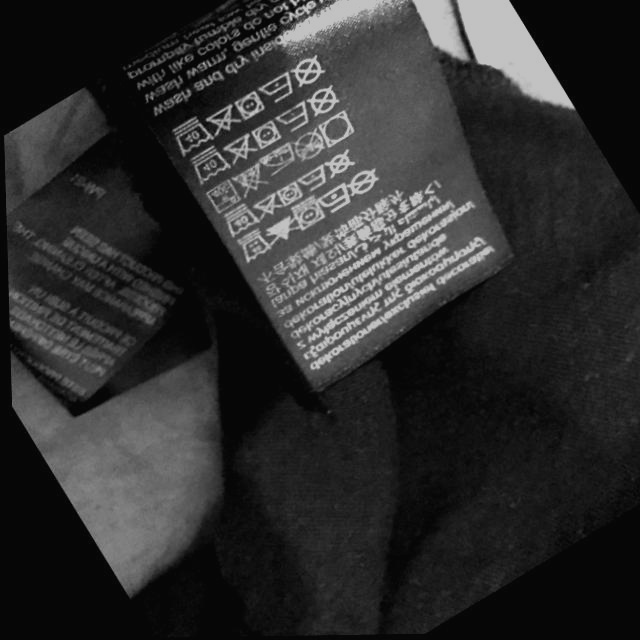40C: (174, 111, 212, 156), (195, 143, 231, 185), (235, 228, 272, 267), (222, 205, 260, 234), (208, 179, 240, 212)
DN_bleach: (226, 131, 256, 167), (234, 162, 265, 196), (268, 214, 299, 247), (207, 103, 238, 134), (255, 193, 282, 220)
DN_dry_clean: (292, 54, 327, 89), (307, 86, 343, 117), (352, 167, 384, 198), (327, 149, 358, 179)
iron_low: (262, 69, 297, 106), (259, 140, 297, 174), (275, 100, 314, 133), (318, 184, 354, 213), (297, 163, 329, 190)
tumble_dry_medium: (292, 196, 328, 232), (234, 91, 270, 121), (250, 121, 284, 150), (278, 182, 305, 206)
tumble_dry_normal: (321, 110, 359, 149)
